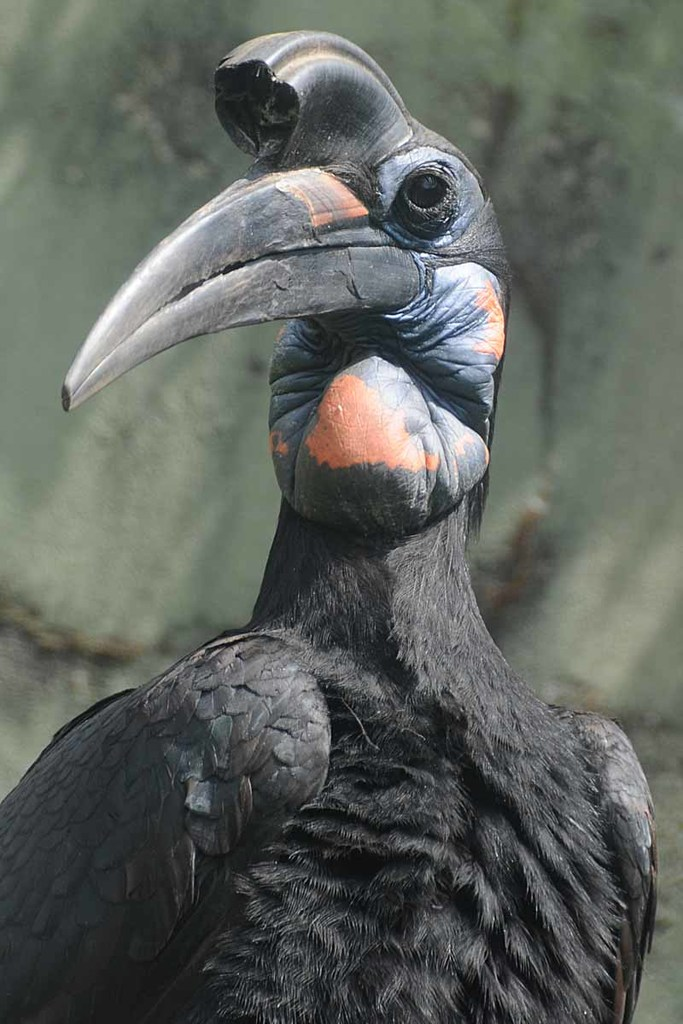Bird: (0, 30, 657, 1024)
